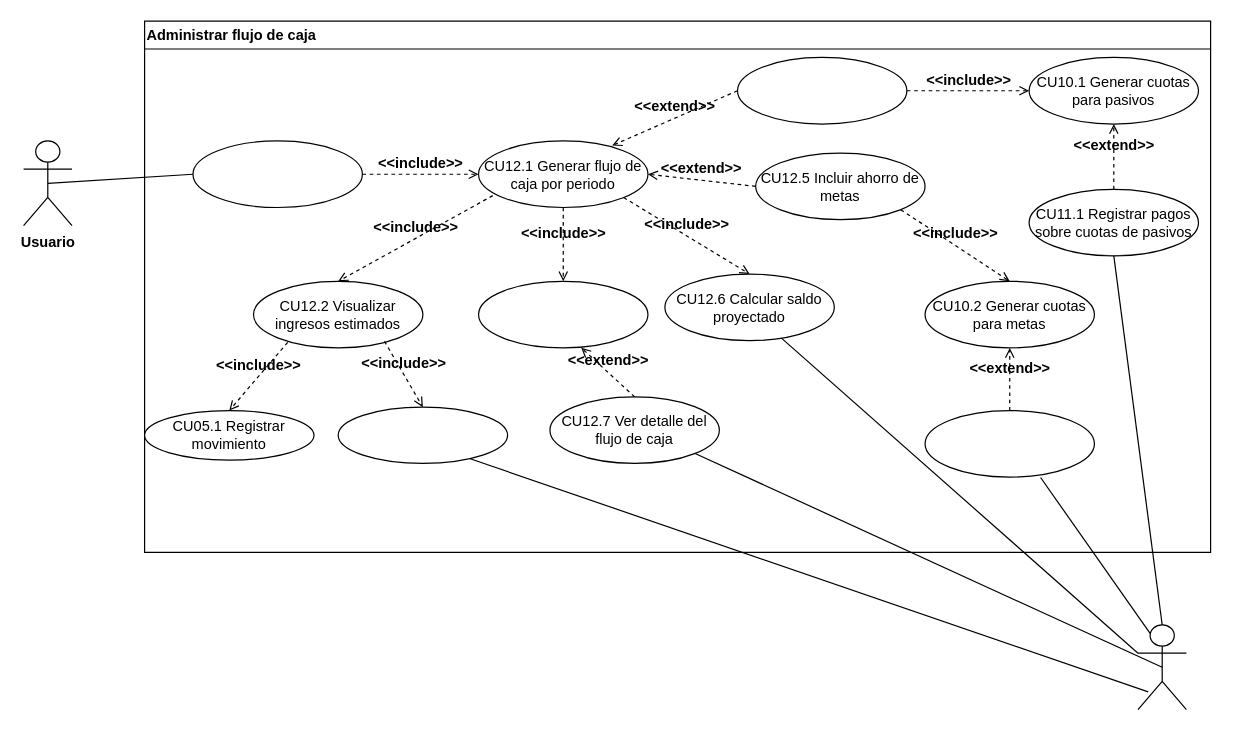
Image size: 1233x756. Some labels were removed from this diagram. The centre of each missing label's shape, as x and y in pixels:
"Base de Datos" belongs at (x=1161, y=667).
"CU05.6 consultar el historial de movimientos" belongs at (x=422, y=434).
"CU11.2 Registrar aportes sobre cuotas de metas" belongs at (x=1009, y=443).
"CU12 - Administrar flujo de caja" belongs at (x=277, y=174).
"CU12.3 Visualizar gastos estimados" belongs at (x=562, y=314).
"CU12.4 Incluir cuotas de deuda" belongs at (x=821, y=90).
